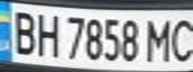5: (103, 15, 124, 63)
7: (60, 12, 84, 61)
8: (118, 16, 145, 63), (81, 15, 106, 62)
B: (6, 7, 39, 56)
C: (166, 14, 193, 63)
H: (33, 9, 63, 57)
M: (142, 15, 175, 63)
